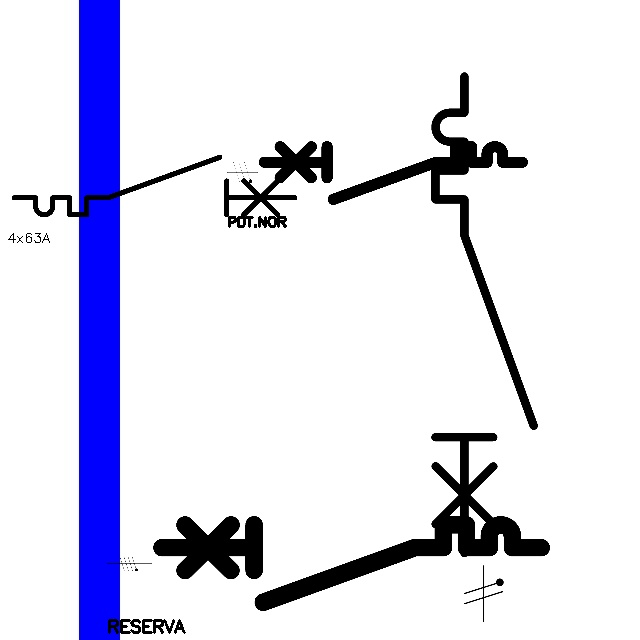interruptor_termomagnetico: (423, 64, 546, 565), (152, 515, 551, 612), (7, 150, 302, 222), (257, 140, 528, 206)
